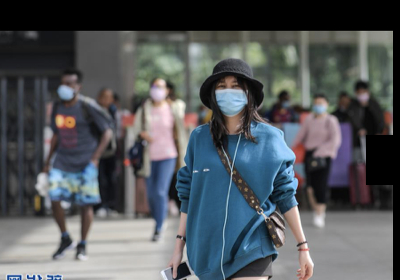with_mask: (212, 78, 248, 115), (54, 78, 74, 102), (148, 83, 168, 103), (309, 98, 326, 115), (355, 87, 367, 103)
